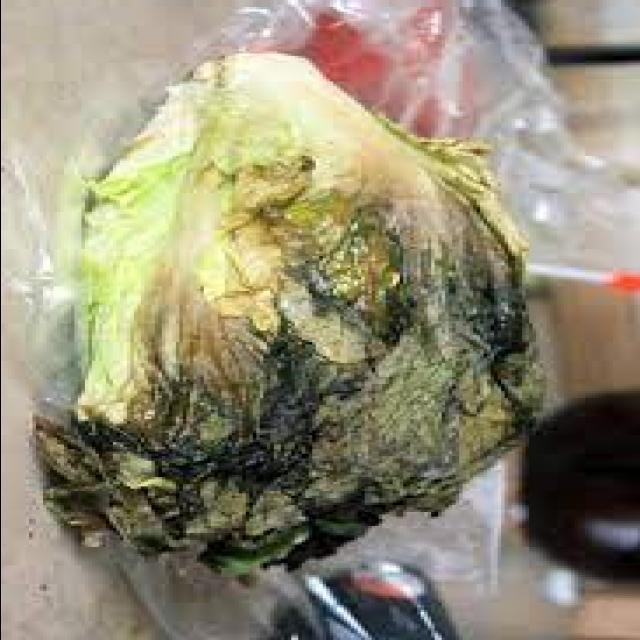Lettuce: (60, 47, 550, 593)
